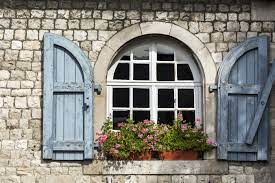Window: (107, 36, 204, 131)
